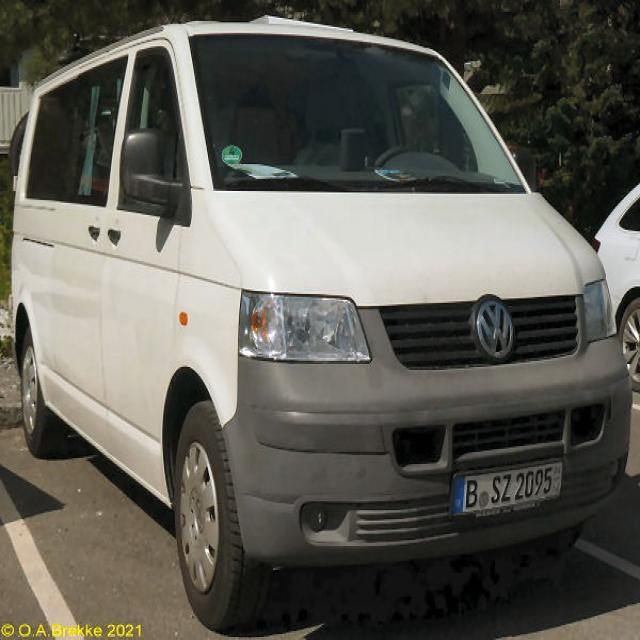license-plates: (454, 463, 564, 514)
